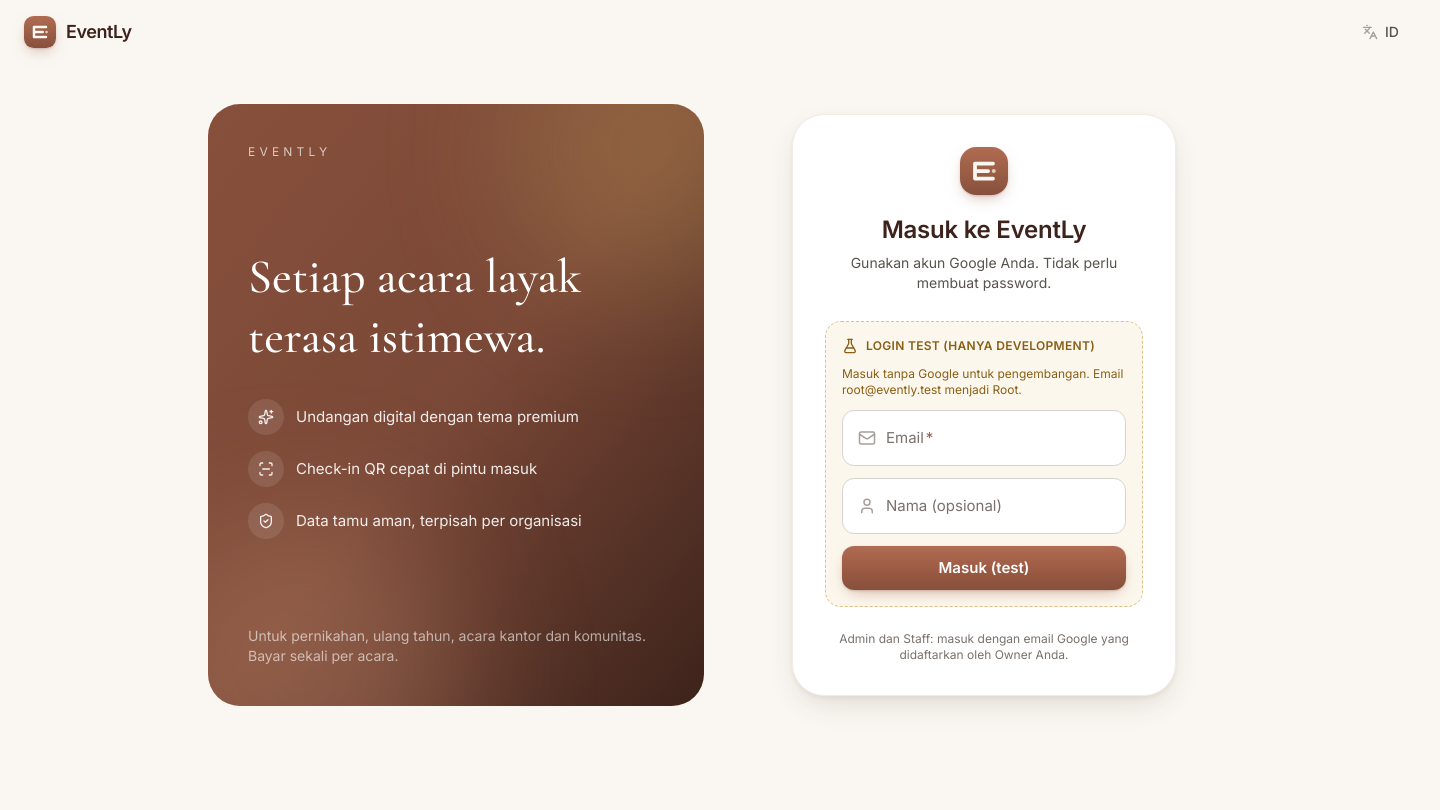
it: LoginPage › ignores an external next= target (no open redirect)
The image size is (1440, 810).
In the field labelled "Email": (984, 438) left=842, top=410, right=1126, bottom=466, type "rina@example.test"
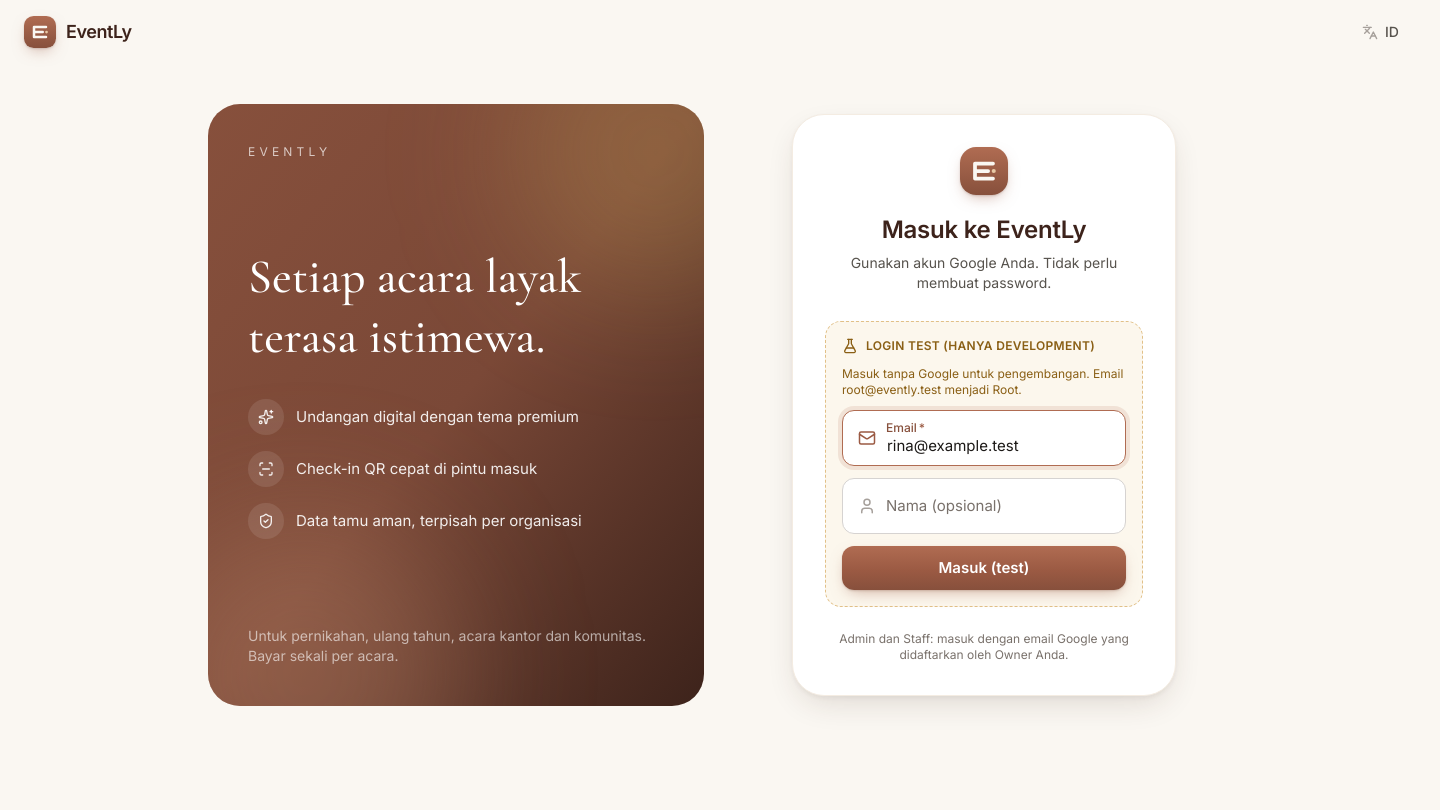
Click the button "Masuk (test)": click(984, 568) left=842, top=546, right=1126, bottom=590
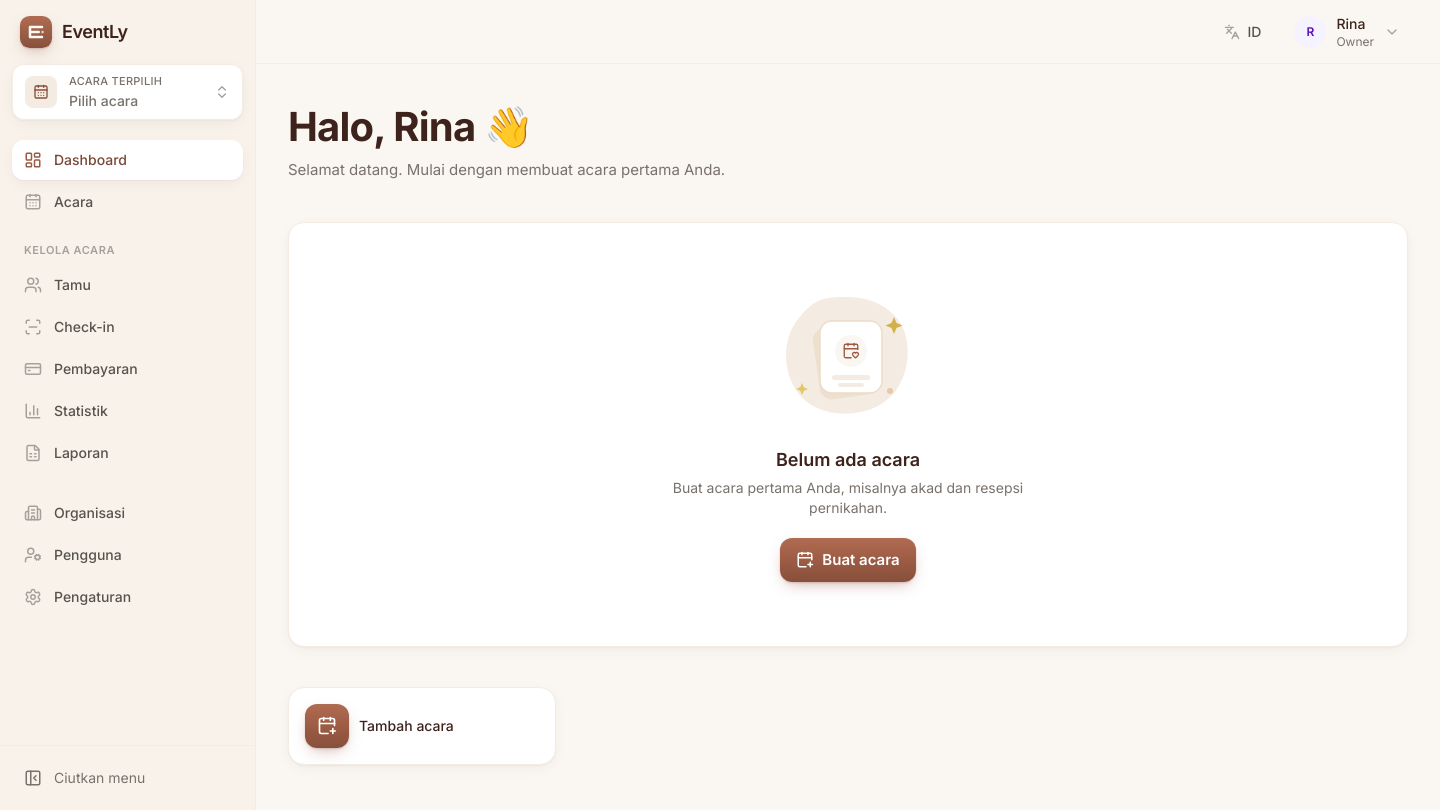
expect the heading "Halo, Rina 👋" is shown: met, box left=288, top=102, right=533, bottom=151
